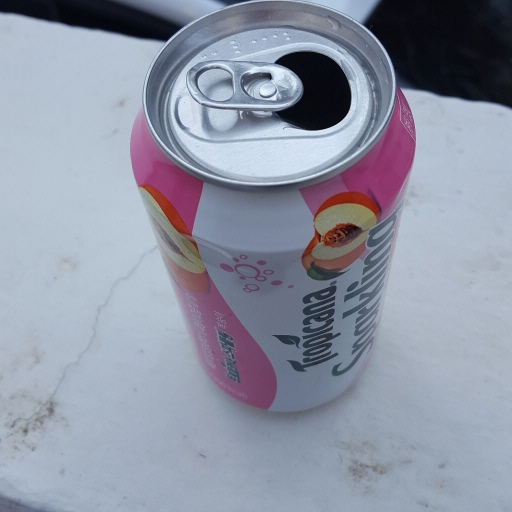Metal_0: (130, 1, 417, 417)
